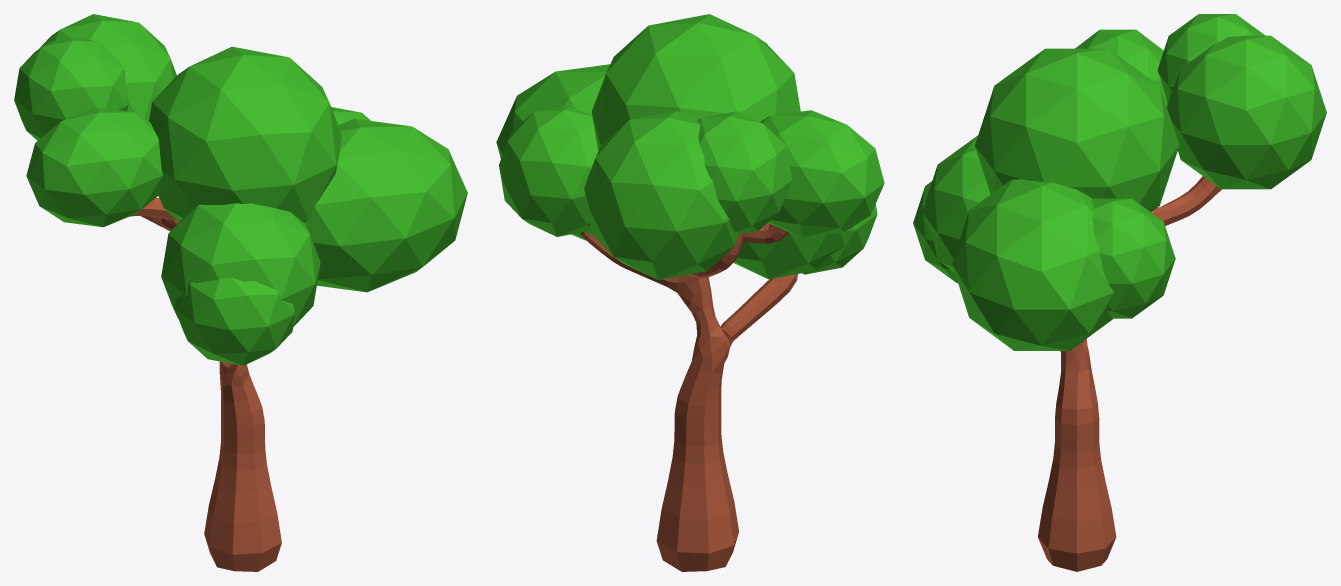
Rendered from Tree.fbx.
3 renders of one model, left to right at view 1: azimuth 30°, elevation 25°; view 2: azimuth 150°, elevation 25°; view 3: azimuth 270°, elevation 25°, orthographic. The views are drawn at different scales.
Parts seen in each view (by area): view 1: Tree; view 2: Tree; view 3: Tree.
Boxes of the visible parts, box(x1,y1,x2,y2) form: Tree: box(14, 14, 467, 571); Tree: box(496, 14, 884, 571); Tree: box(913, 14, 1326, 571).
Bounding box in the file's own units: 926 × 1196 × 872.
